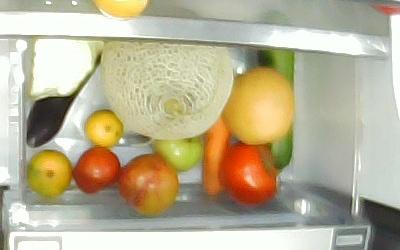cabbage: (29, 38, 103, 101)
carrot: (204, 118, 231, 196)
eggplant: (27, 41, 104, 147)
melon: (103, 40, 233, 140)
pear: (222, 67, 294, 144)
prune: (118, 154, 180, 214), (71, 148, 120, 194)
tangerine: (28, 149, 72, 198), (84, 109, 123, 148)
tomato: (218, 142, 277, 205), (150, 134, 202, 171)
zucchini: (255, 47, 294, 169)
